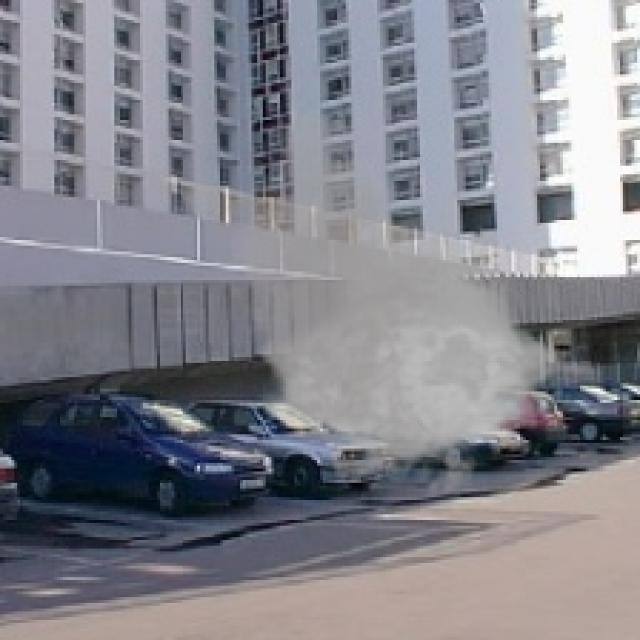smoke: (220, 106, 609, 508)
